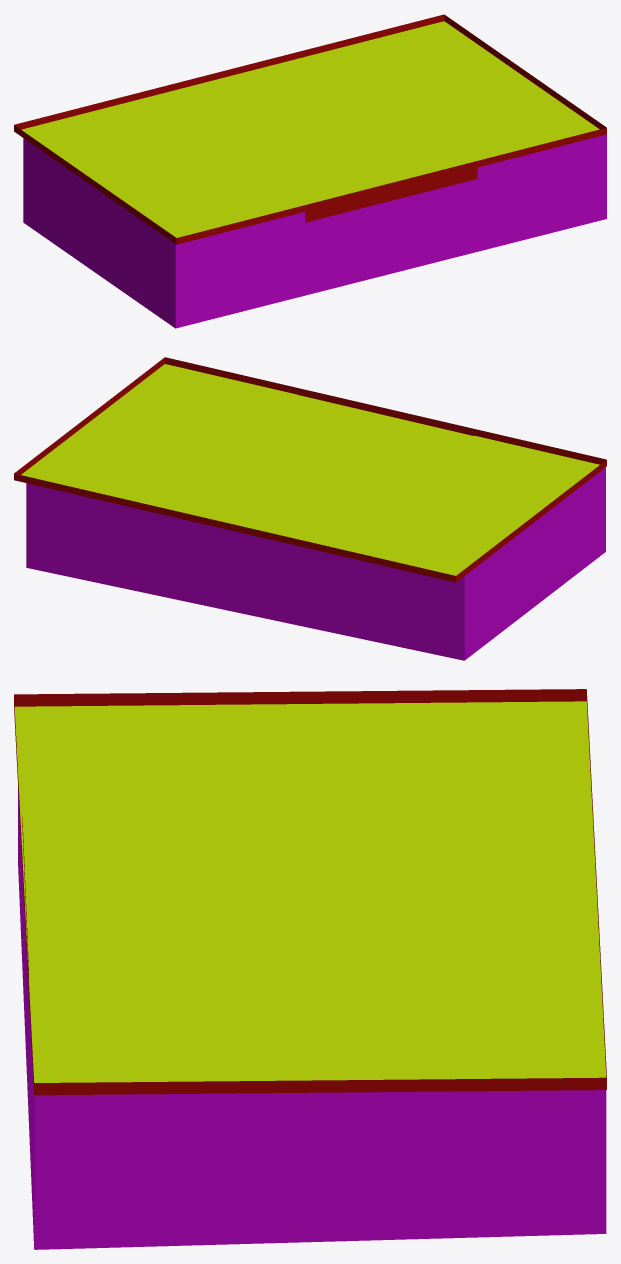
The model's file is bgj_127.glb.
3 renders of one model, top to bottom at view 1: azimuth 30°, elevation 25°; view 2: azimuth 150°, elevation 25°; view 3: azimuth 270°, elevation 25°, orthographic. The views are drawn at different scales.
Parts seen in each view (by area): view 1: bgj_127; view 2: bgj_127; view 3: bgj_127.
Part boxes in pixels (box(x1,y1,x2,y2)): bgj_127: box(14, 14, 606, 328); bgj_127: box(14, 357, 606, 660); bgj_127: box(14, 689, 606, 1249).
Bounding box in the file's own units: 24.02 × 4.74 × 15.28.
